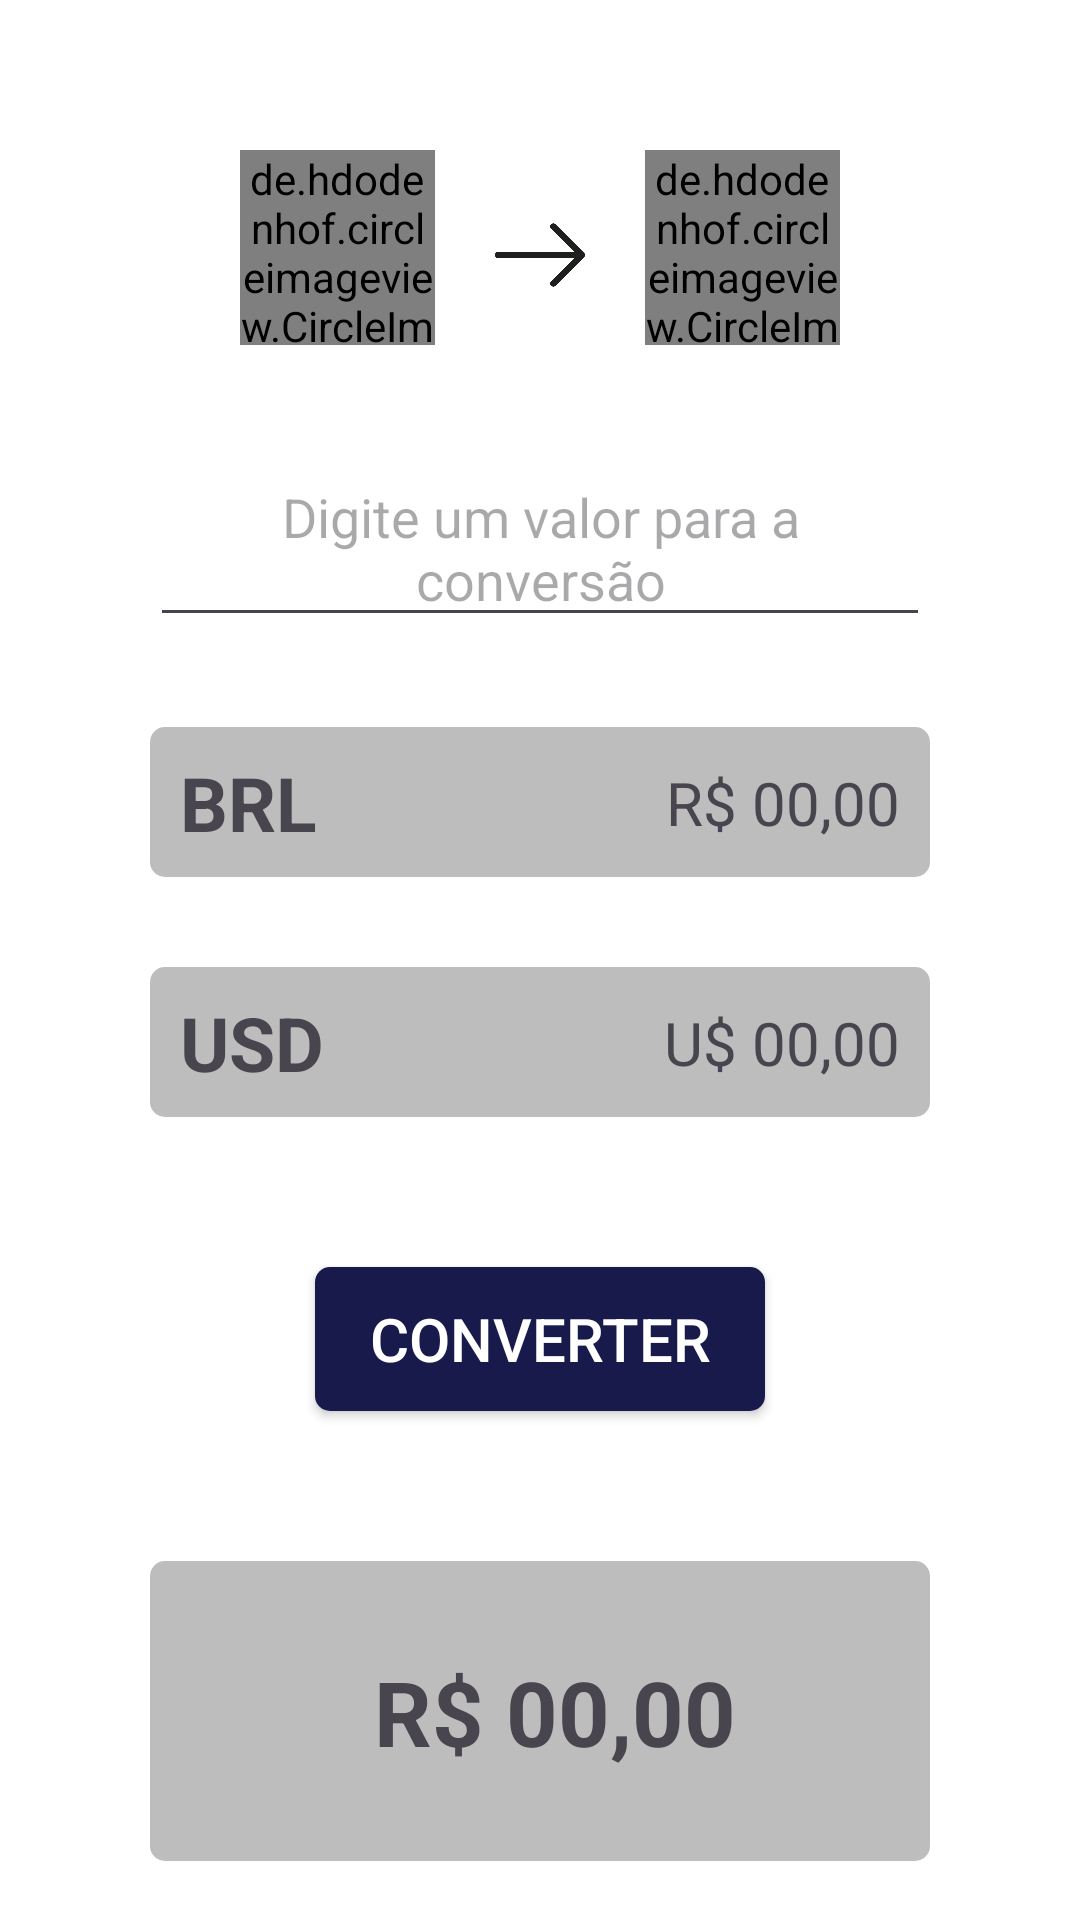

Screen size 1080px×1920px. Icon name, then its center in pixels as point (x, y):
arrow: point (540, 255)
